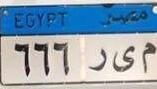6: (53, 40, 72, 77), (33, 41, 50, 76), (15, 42, 30, 76)
meem: (139, 40, 157, 73)
raa: (89, 46, 111, 75)
yaa: (112, 45, 137, 74)
